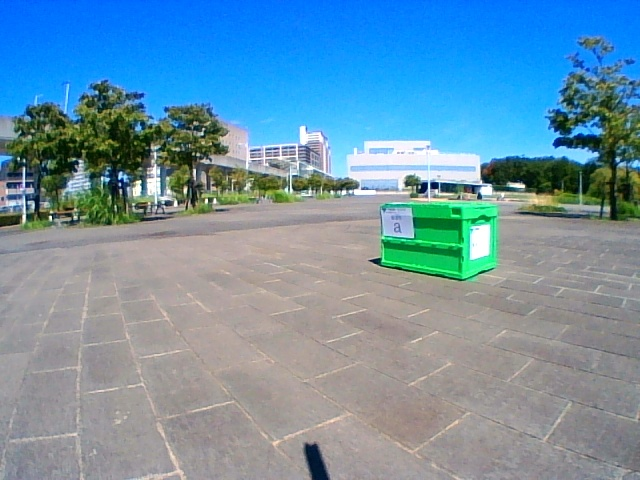green_box: (381, 200, 498, 279)
tag_a: (383, 208, 412, 235)
